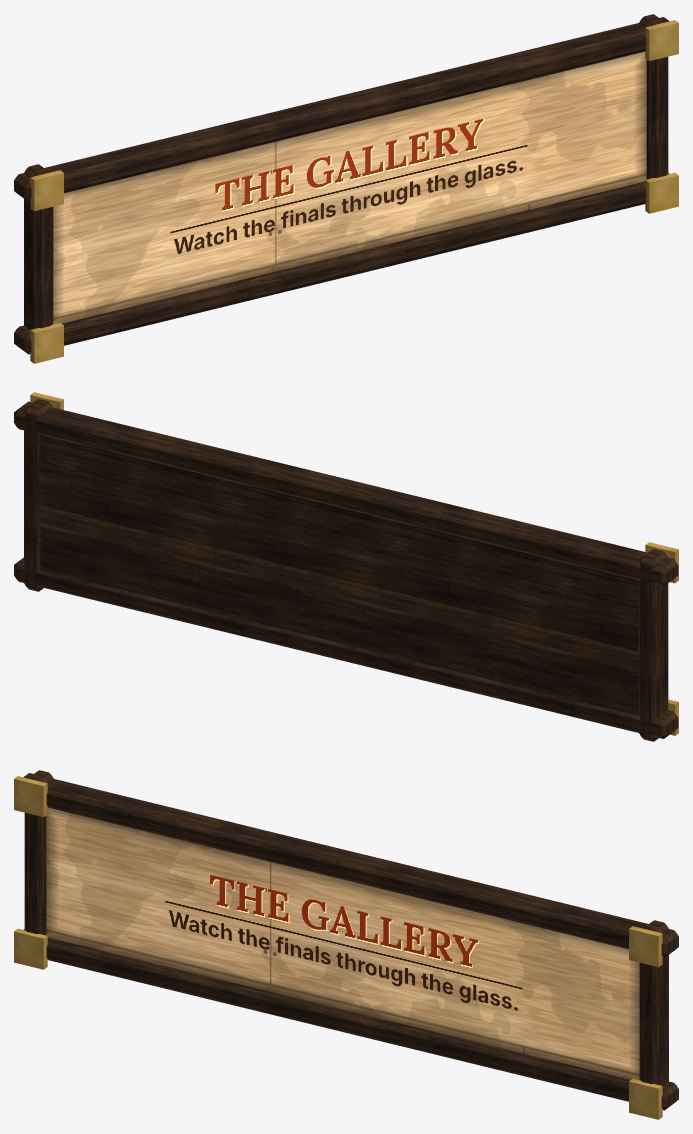
Rendered from sg_gallery.glb.
The picture shows the model from 3 angles, top to bottom: view 1: azimuth 30°, elevation 25°; view 2: azimuth 150°, elevation 25°; view 3: azimuth 330°, elevation 25°; orthographic projection.
Parts seen in each view (by area): view 1: spire; view 2: spire; view 3: spire.
Part boxes in pixels (<box>): spire: <box>14,14,678,363</box>; spire: <box>14,392,678,741</box>; spire: <box>14,770,678,1119</box>.
Bounding box in the file's own units: 3.96 × 1.06 × 0.19.
Materials: 3 (3 with a texture image).
